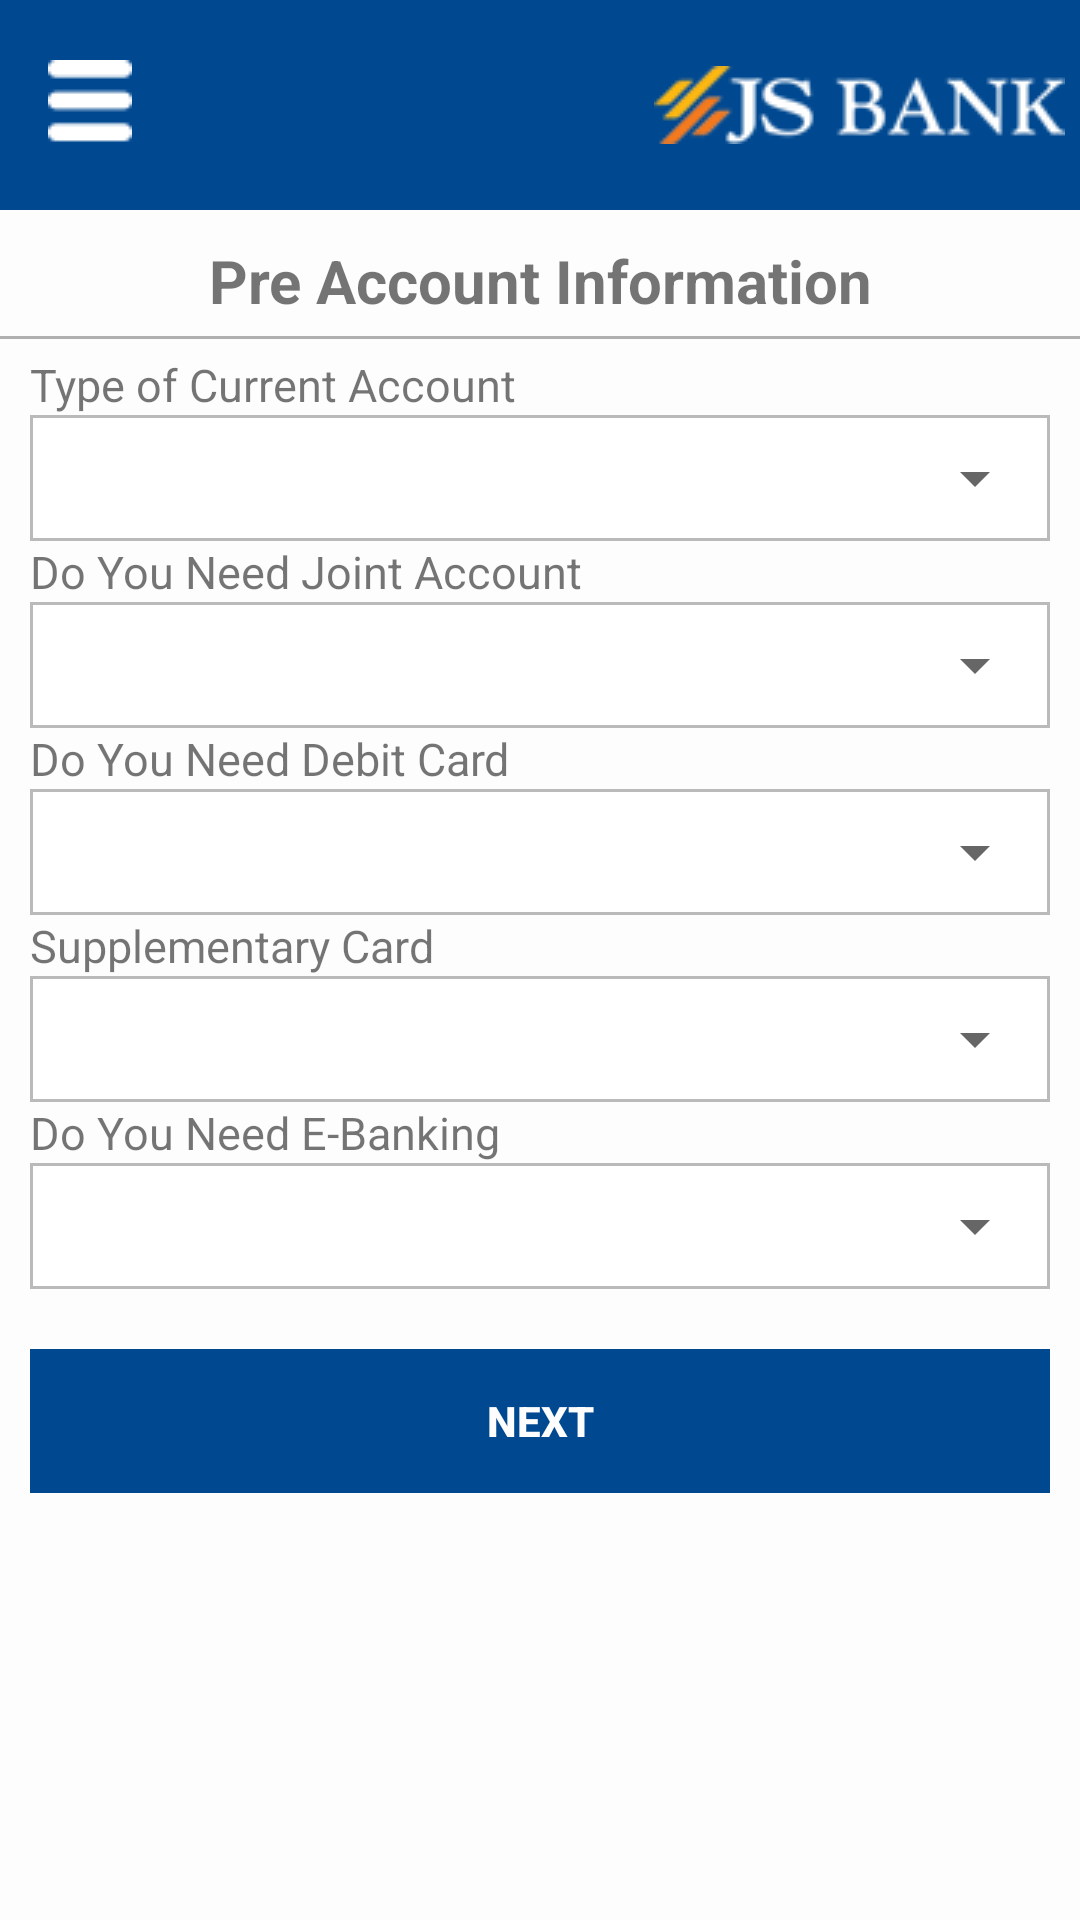

Icon bounding boxes for this 1080 x 1920 phone screenshot, format [x1=x1, y1=y1, x2=x2, y2=y2]:
menu: [x1=48, y1=60, x2=132, y2=142]
